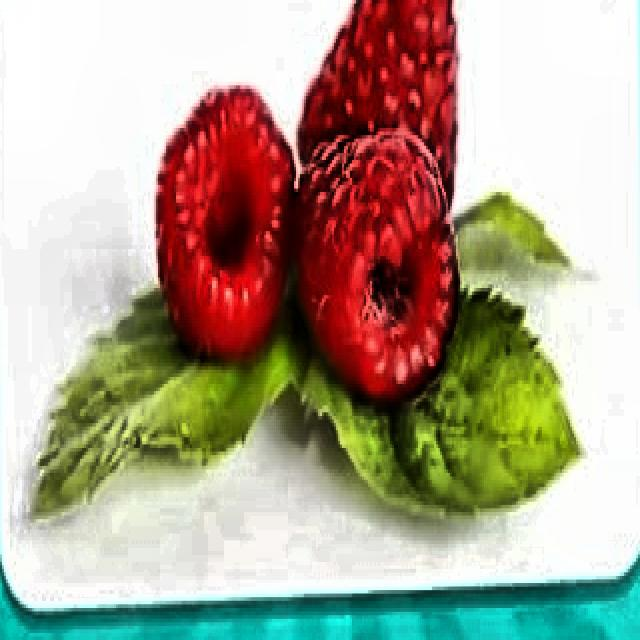Fruit: (52, 11, 580, 544)
